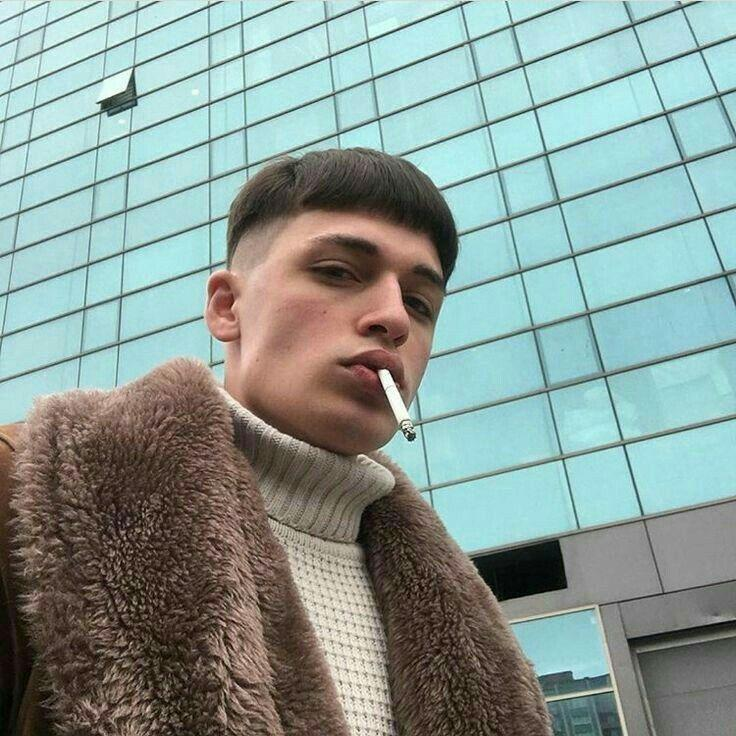cigarette: (378, 369, 416, 441)
